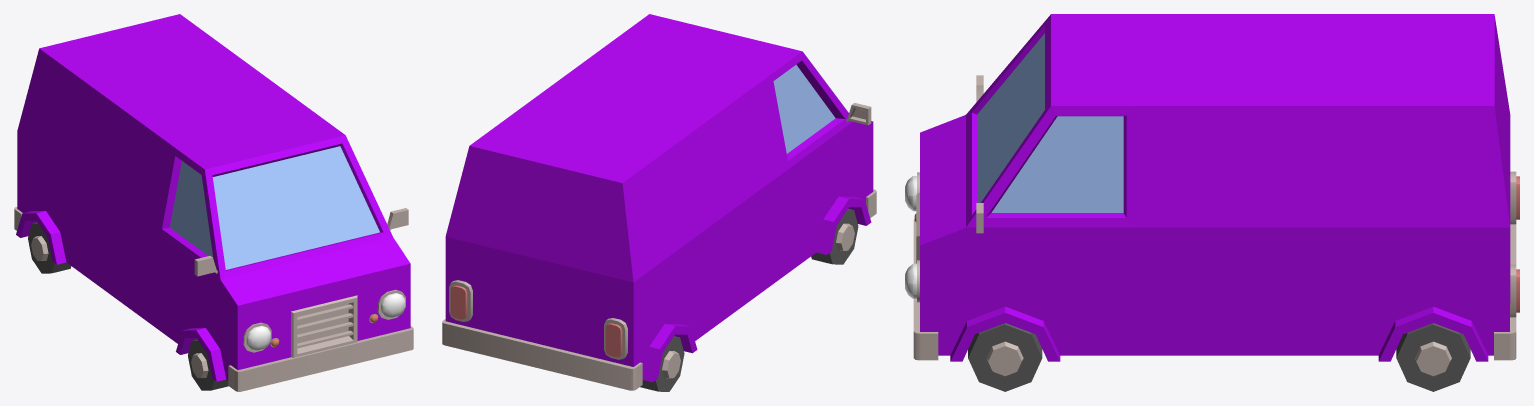
The model's file is Van.fbx.
3 renders of one model, left to right at view 1: azimuth 30°, elevation 25°; view 2: azimuth 150°, elevation 25°; view 3: azimuth 270°, elevation 25°, orthographic. The views are drawn at different scales.
Visible parts, largest first — view 1: polySurface395; view 2: polySurface395; view 3: polySurface395.
Part boxes in pixels (left/top/right/bottom): polySurface395: left=14, top=14, right=413, bottom=391; polySurface395: left=442, top=14, right=876, bottom=391; polySurface395: left=905, top=14, right=1519, bottom=391.
Bounding box in the file's own units: 1.11 × 1.03 × 2.1.
